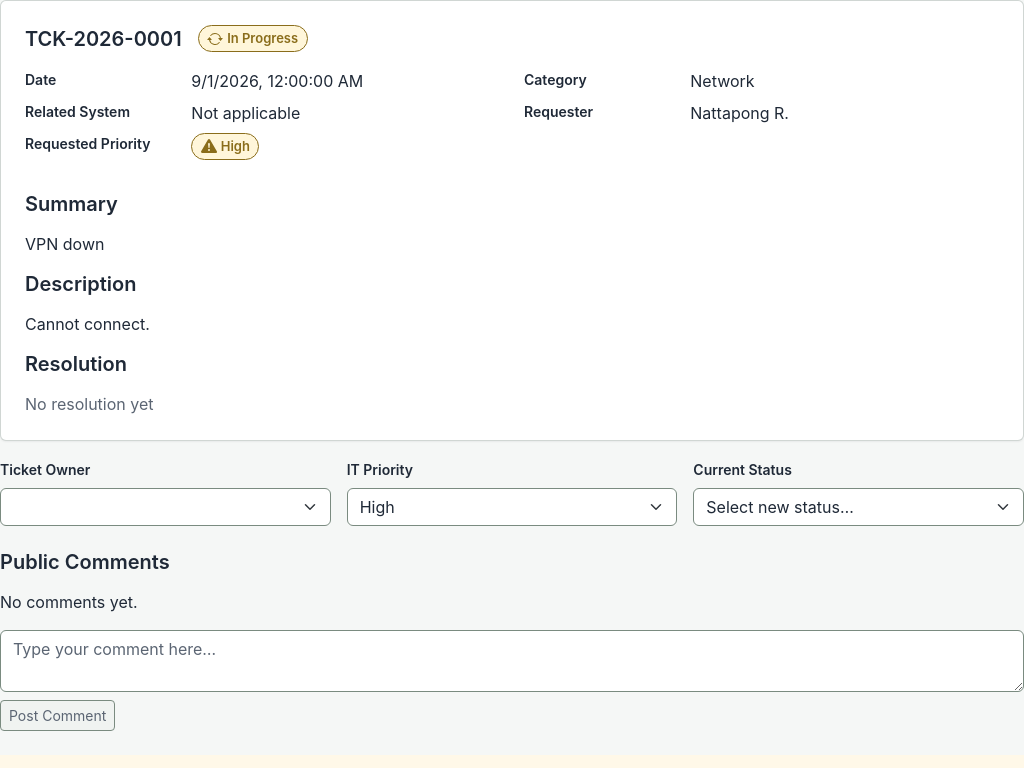
Test: Staff status change: If-Match (api-spec 4.4) › on 428 PRECONDITION_REQUIRED shows the server message and does not show the stale text
The image size is (1024, 768).
Select "Resolved" in the dropdown labelled "Current Status". click: point(859, 507)
box: [693,488,1023,526]
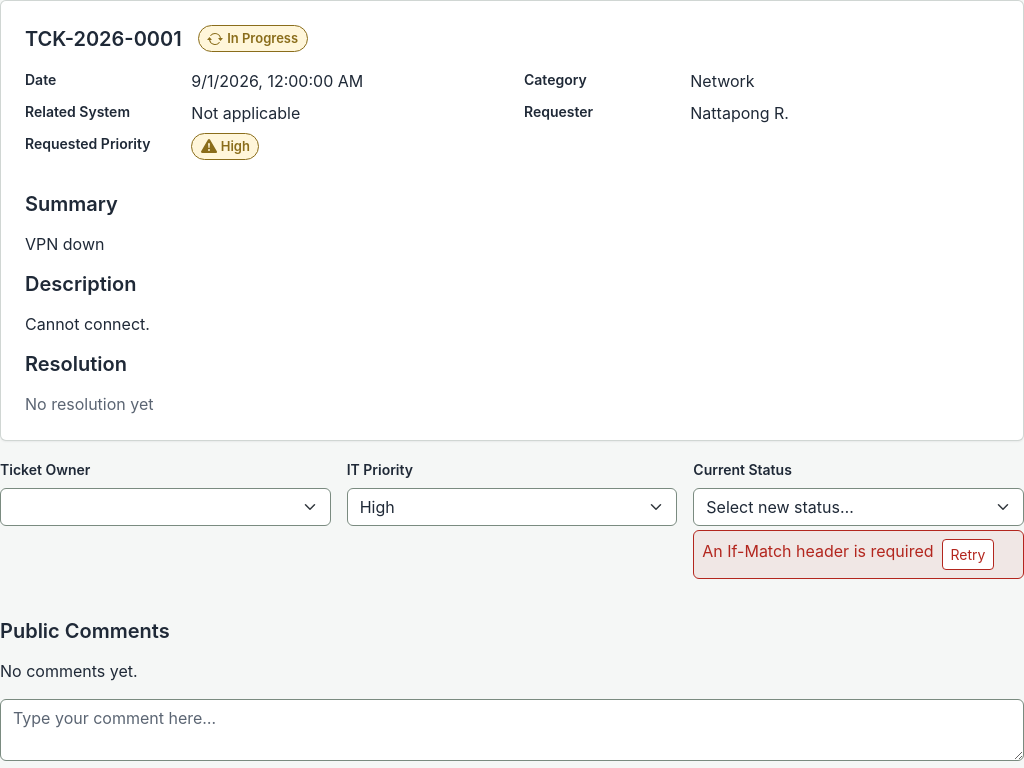
Now the text "An If-Match header is required" is shown, box [702,539,934,563]
